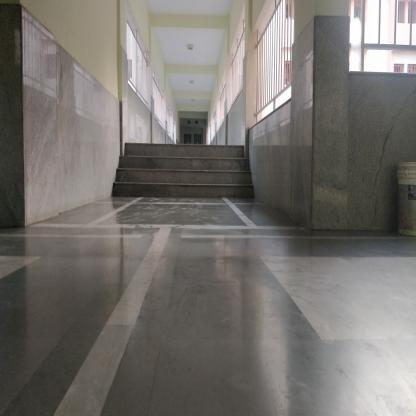stairs: (126, 142, 246, 207)
